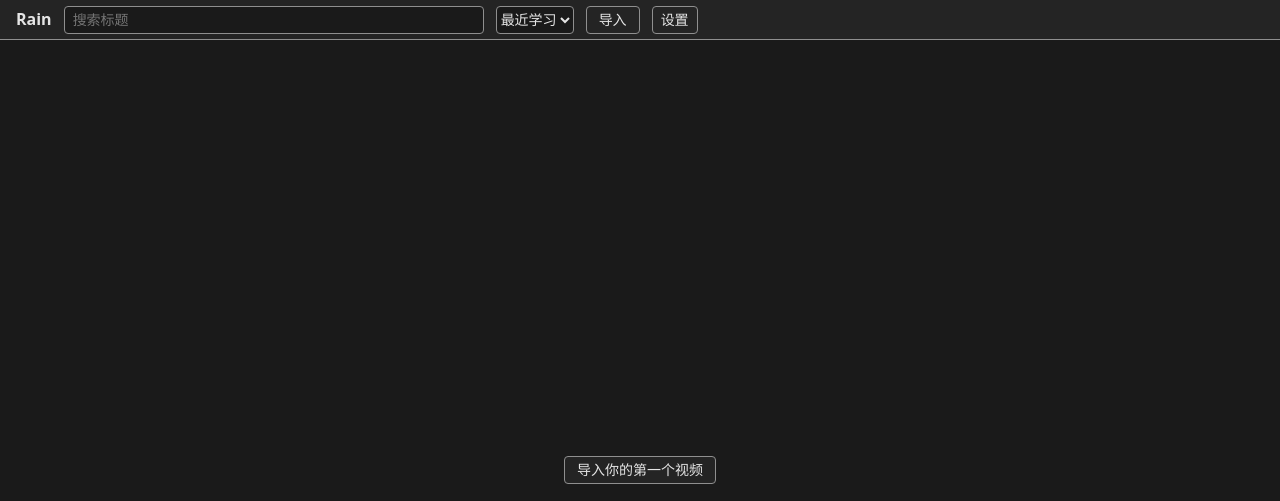
Test: VideoListPage local import › persists a pending local video and shows its card before processing completes
Click the button "导入": (613, 20) [586, 6, 640, 34]
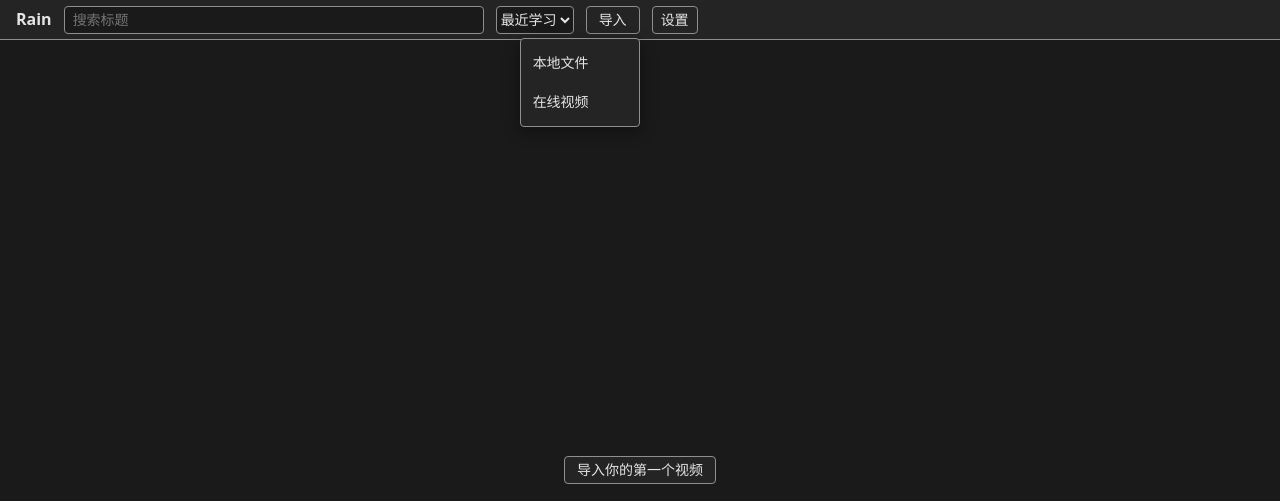
Click the button "本地文件": (580, 62) [521, 42, 639, 82]
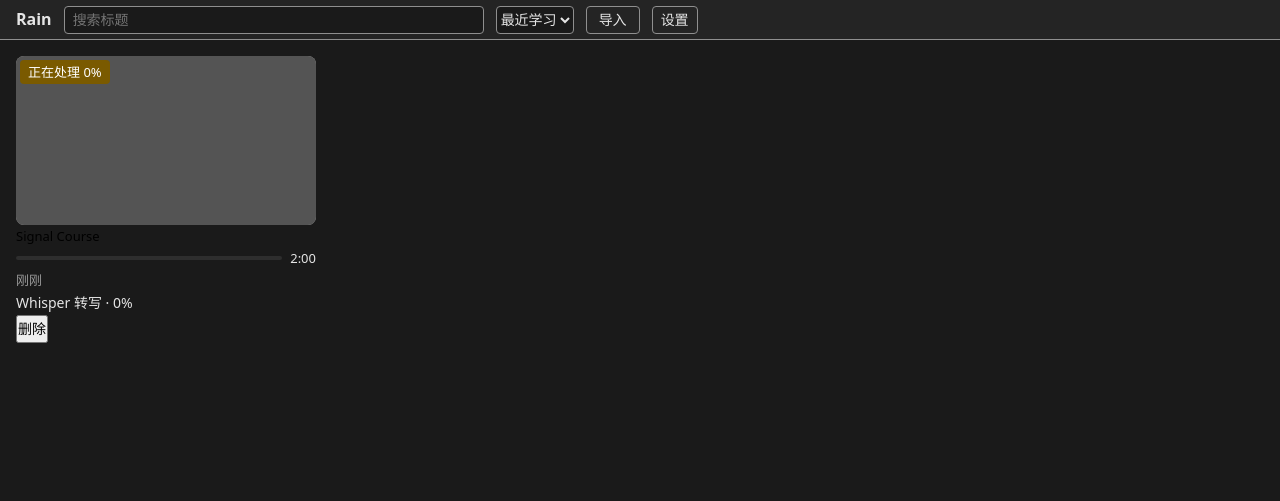
Now the text "Signal Course" is shown, box [16, 227, 100, 245]
